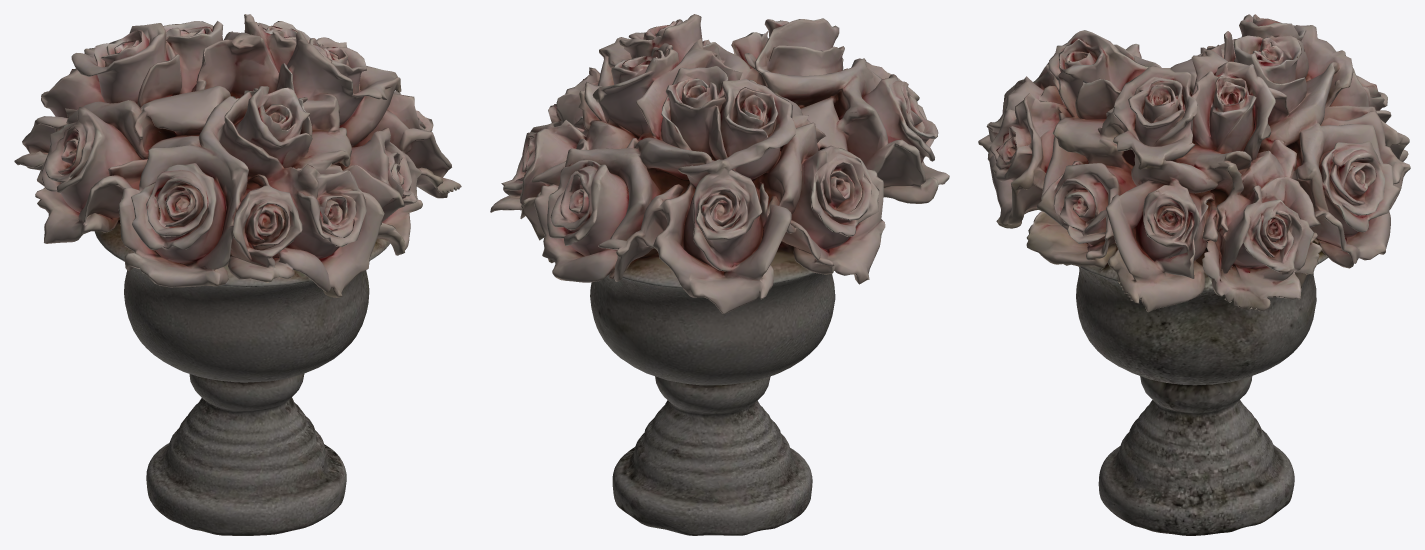
File: decor-bouquet-roses.glb
3 renders of one model, left to right at view 1: azimuth 30°, elevation 25°; view 2: azimuth 150°, elevation 25°; view 3: azimuth 270°, elevation 25°, orthographic. The views are drawn at different scales.
Visible parts, largest first — view 1: tripo_node_a6ed1f36-6ccf-44d7-bc51-ce3c99785da9; view 2: tripo_node_a6ed1f36-6ccf-44d7-bc51-ce3c99785da9; view 3: tripo_node_a6ed1f36-6ccf-44d7-bc51-ce3c99785da9.
Boxes of the visible parts, x1,y1,x2,y2 form: tripo_node_a6ed1f36-6ccf-44d7-bc51-ce3c99785da9: [14, 14, 461, 535]; tripo_node_a6ed1f36-6ccf-44d7-bc51-ce3c99785da9: [490, 14, 949, 535]; tripo_node_a6ed1f36-6ccf-44d7-bc51-ce3c99785da9: [978, 14, 1410, 535].
Size of the model in its own units: 0.3317 by 0.4 by 0.3482.
Materials: 1 (1 with a texture image).
